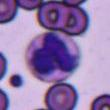N: (26, 32, 80, 82)
